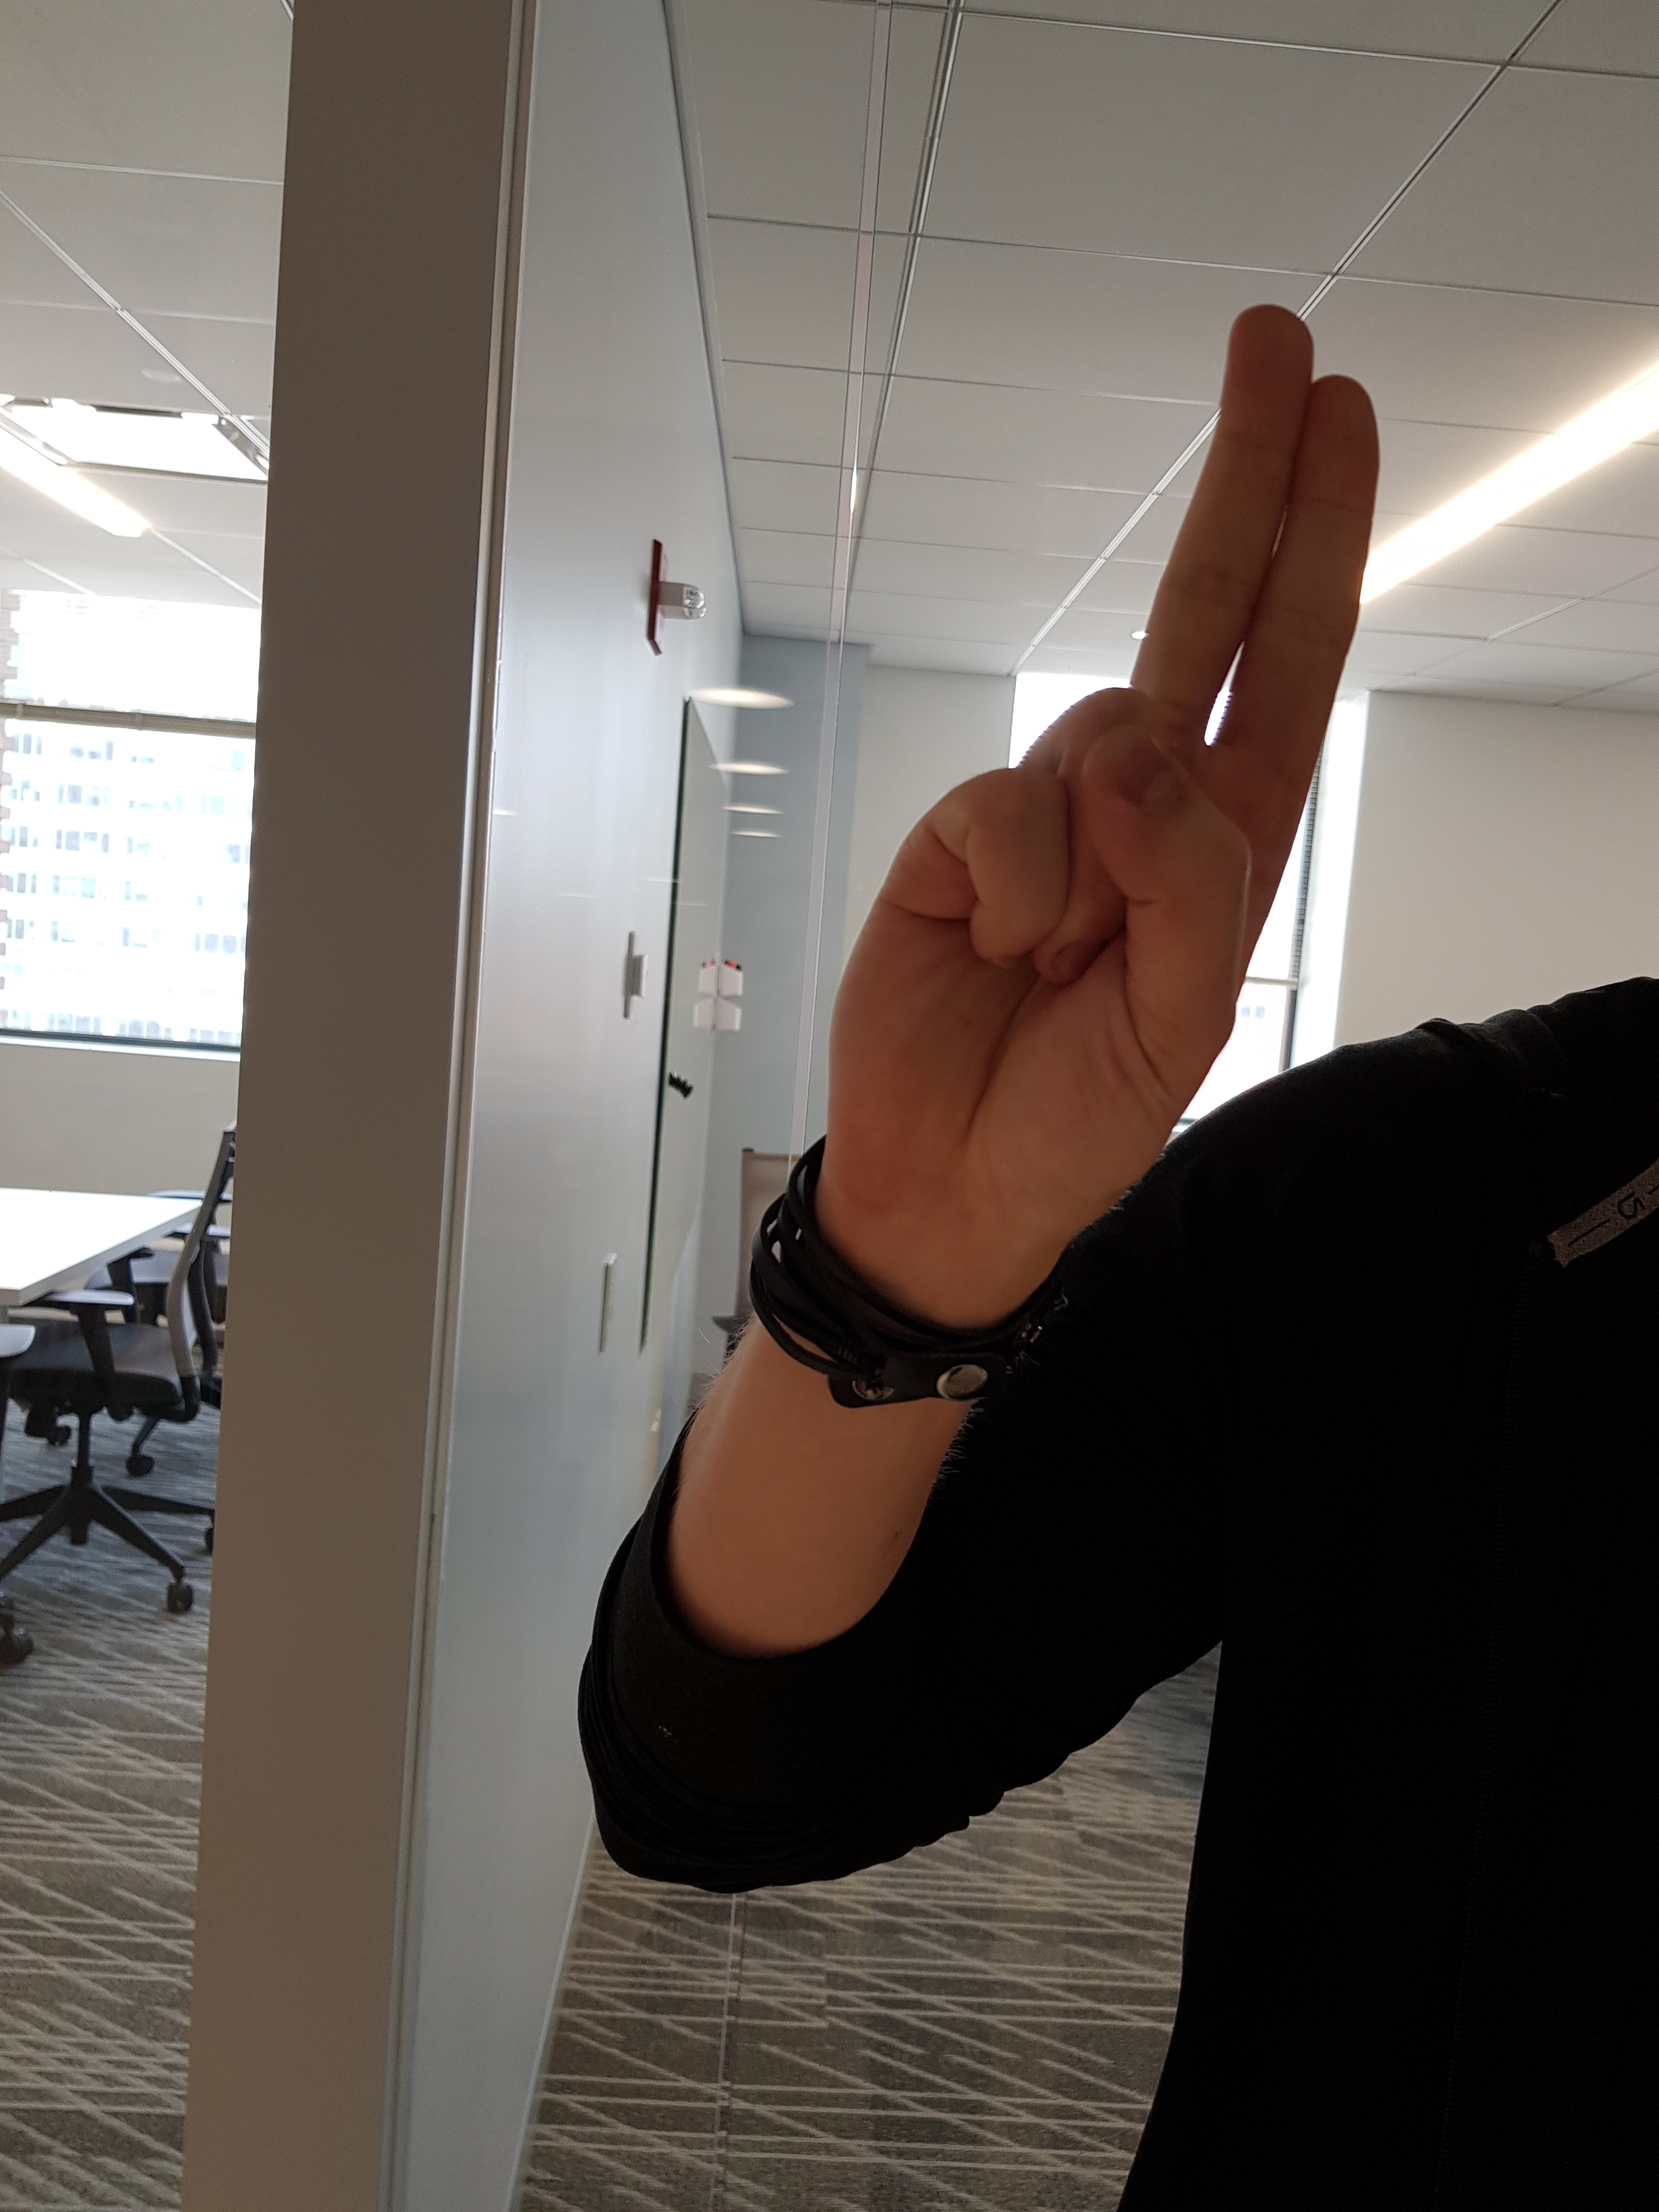u: (789, 260, 1401, 1289)
